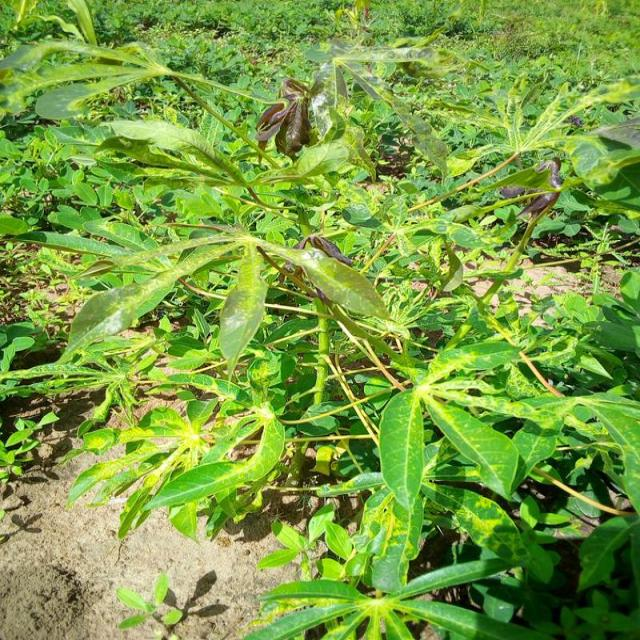cassava leaf: (217, 237, 267, 375), (378, 388, 424, 510)
